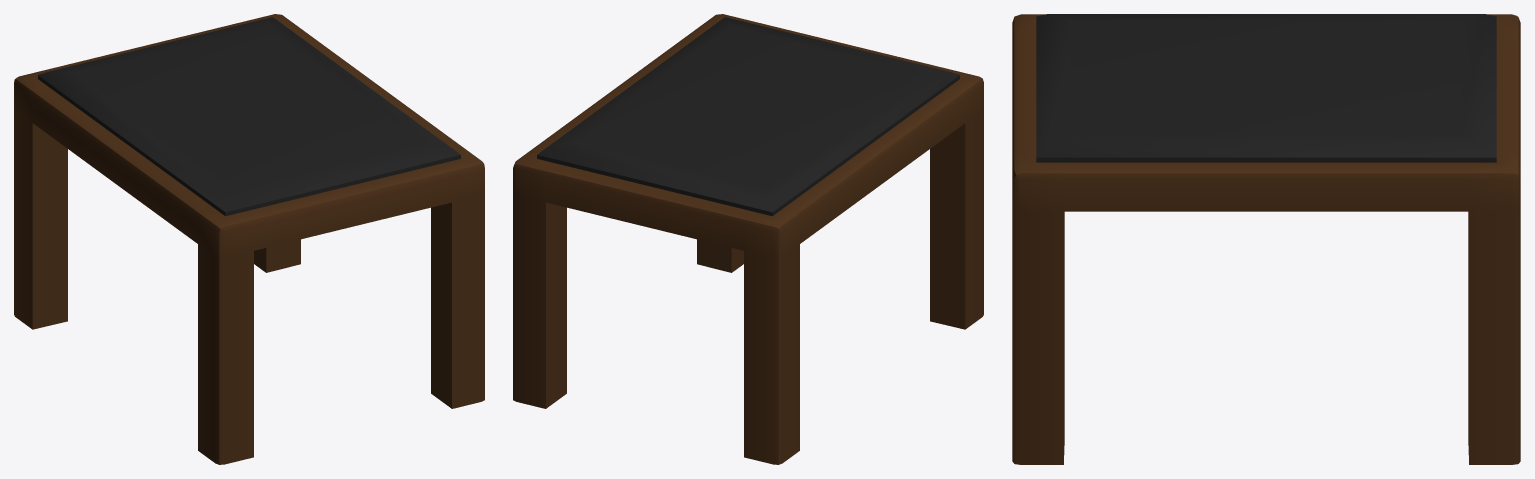
File: small_chair_horsens.FBX
3 renders of one model, left to right at view 1: azimuth 30°, elevation 25°; view 2: azimuth 150°, elevation 25°; view 3: azimuth 270°, elevation 25°, orthographic. The views are drawn at different scales.
Parts seen in each view (by area): view 1: skammel_horsens; view 2: skammel_horsens; view 3: skammel_horsens.
Boxes of the visible parts, x1,y1,x2,y2 form: skammel_horsens: (14,14,484,464); skammel_horsens: (513,14,983,464); skammel_horsens: (1012,14,1520,464).
Bounding box in the file's own units: 45.2 × 40.18 × 60.41.
